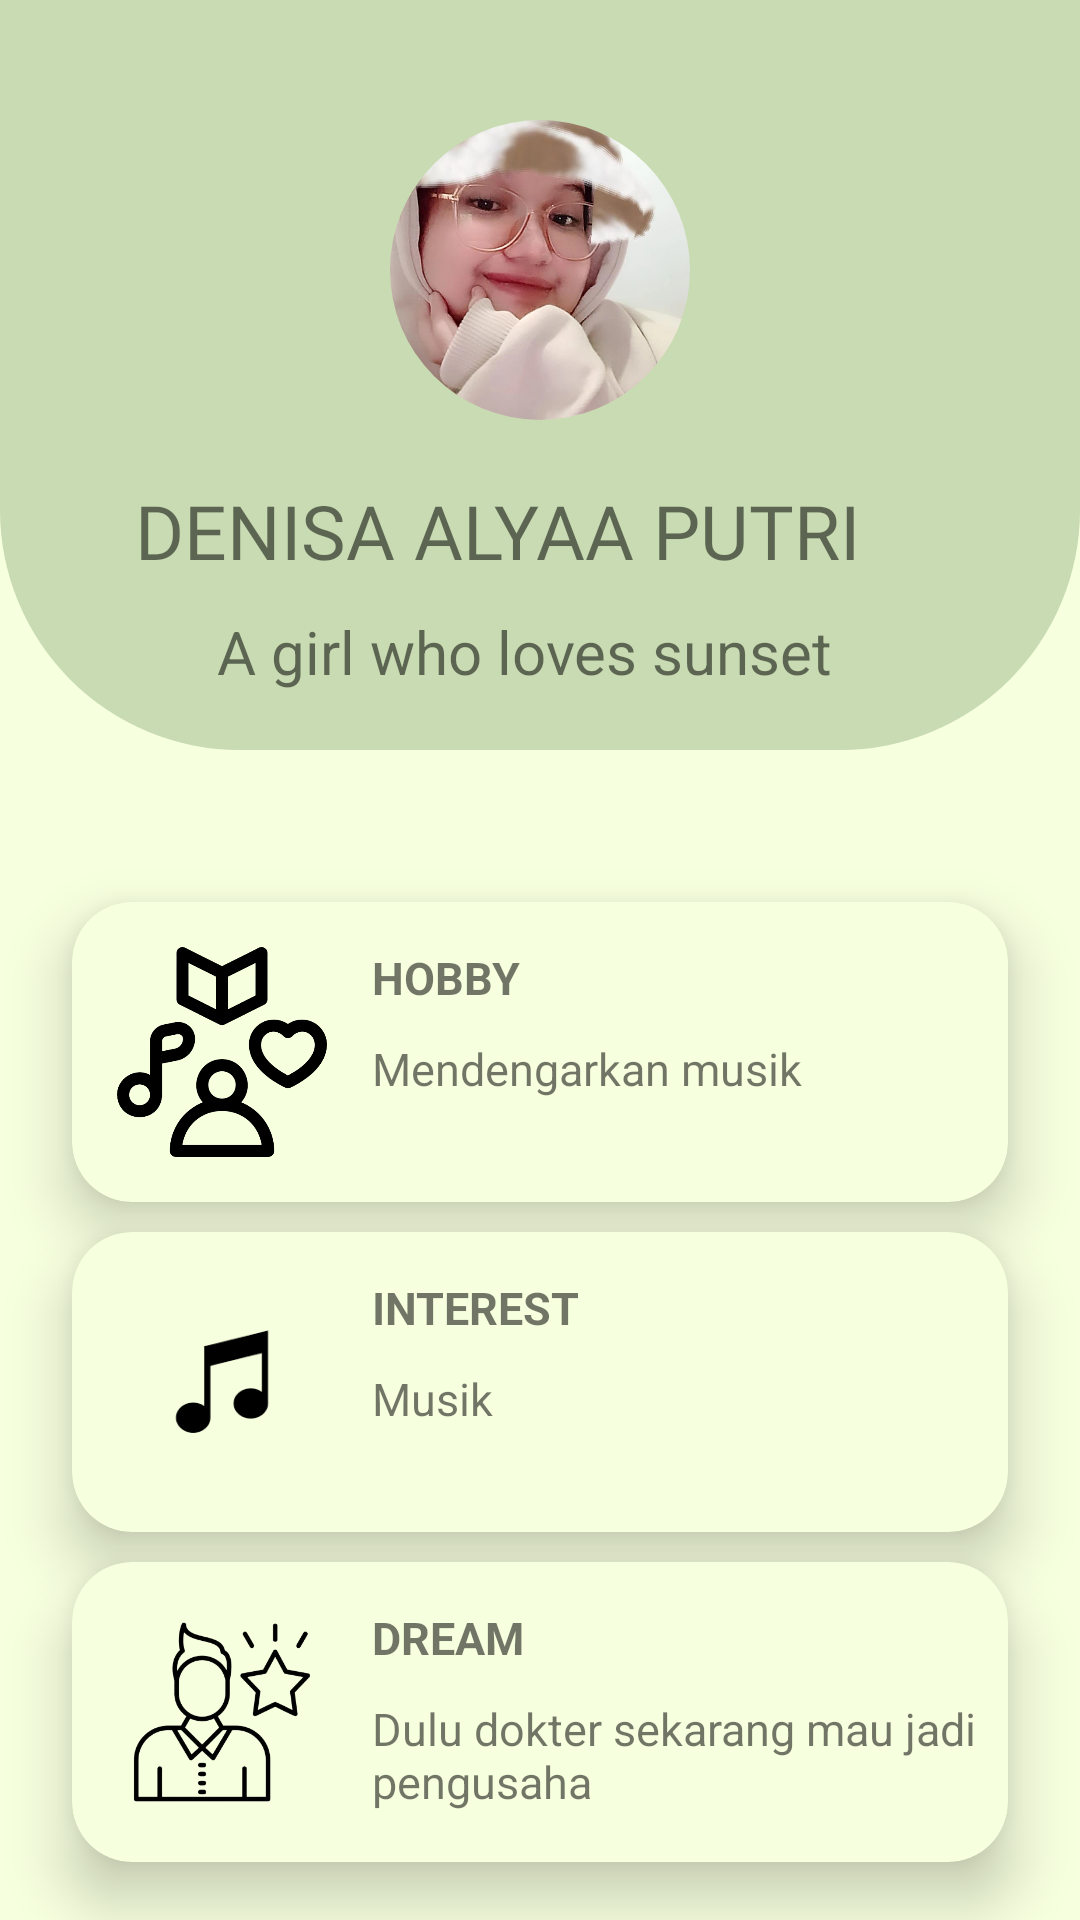

Icons on this 1080*1920 Android screen, each with the point to tap as point (x, y):
hobi: point (222, 1052)
music: point (222, 1381)
